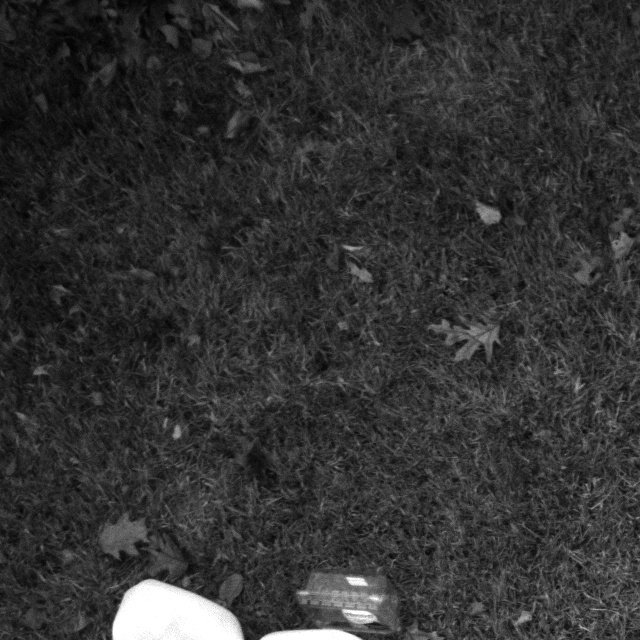can: (99, 578, 242, 640)
container: (286, 574, 402, 640)
